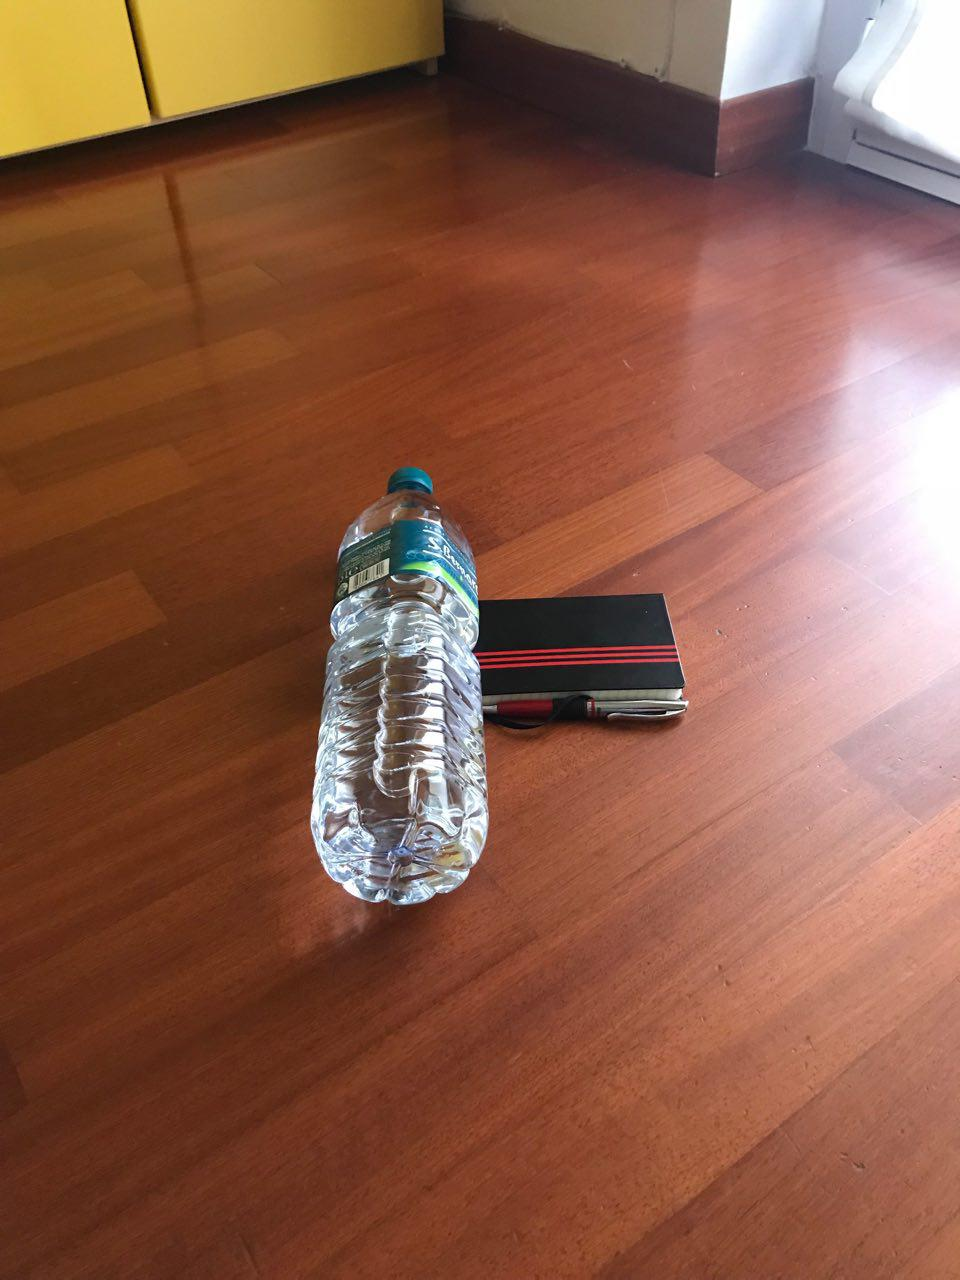san_bernardo: (306, 463, 492, 910)
